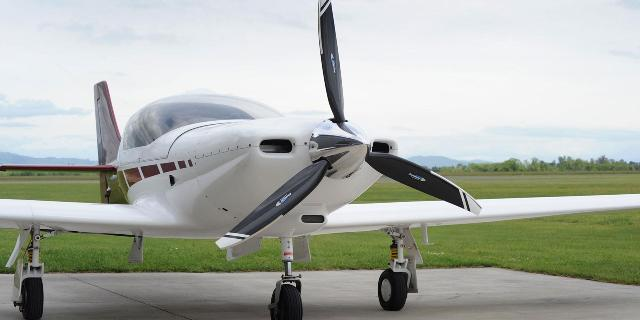Propeller: (217, 8, 495, 258)
